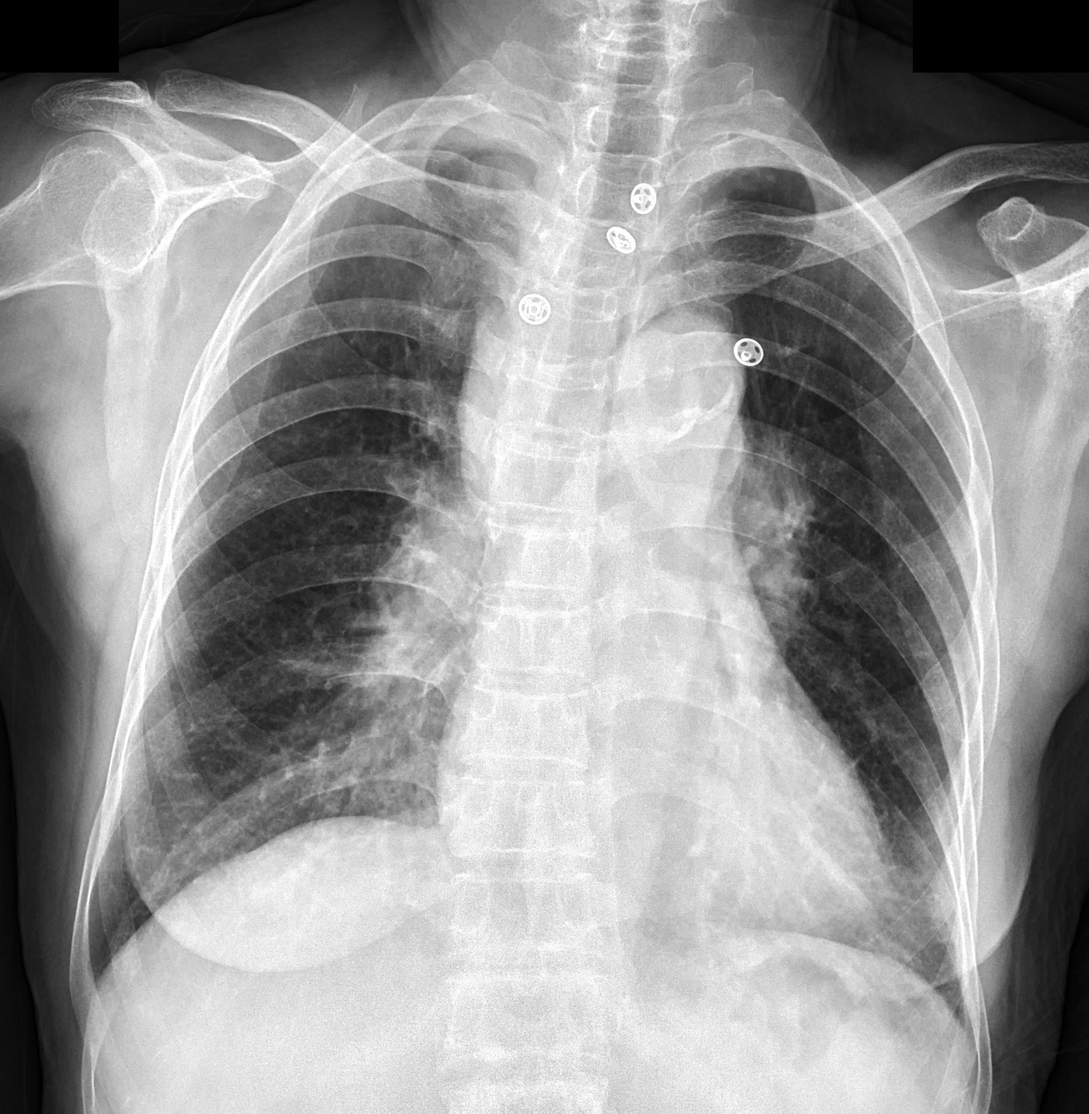Aortic enlargement: (622, 306, 748, 465)
Cardiomegaly: (436, 716, 900, 968)
Pleural thickening: (377, 116, 517, 161)
